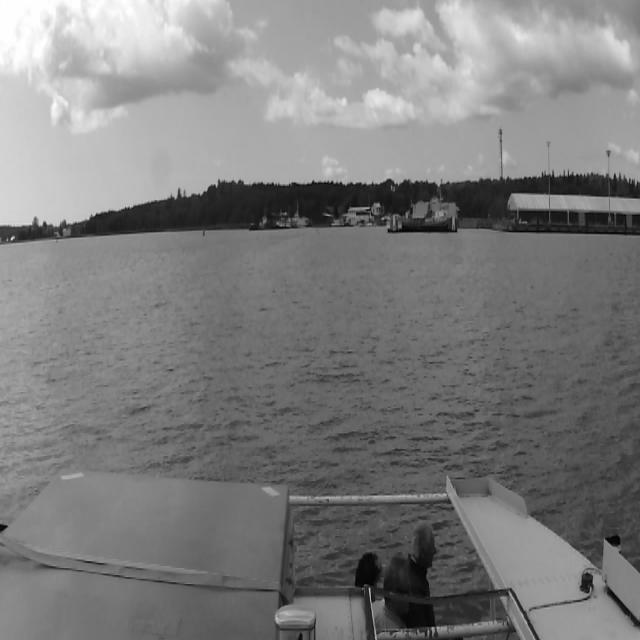buoy: (203, 228, 205, 235), (56, 237, 58, 243)
ship: (292, 208, 308, 226)
